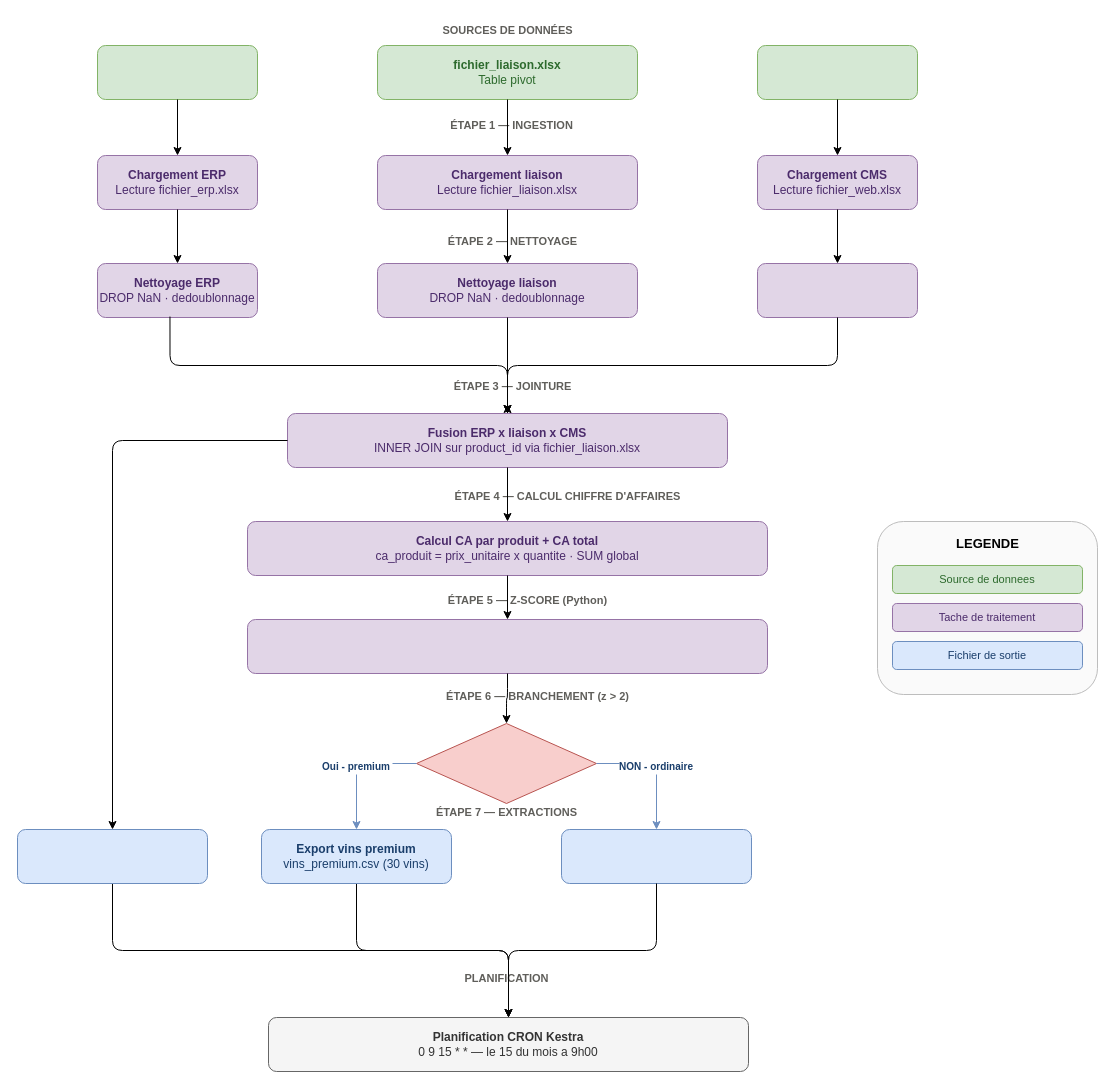
Image size: 1115x1089. Some labels were removed from this diagram. The shapes that lost their labels are listed below. From the top down, each one's centre as x and y in pixels, then its label:
(177,72): fichier_erp.xlsx Données ERP
(837,72): fichier_web.xlsx Données CMS
(837,290): Nettoyage CMS DROP NaN · dedoublonnage
(507,646): Calcul z-score sur les prix z = (prix - moyenne) / ecart-type
(506,763): z-score > 2 ?
(112,856): Export rapport CA rapport_ca.xslx
(656,856): Export vins ordinaires vins_ordinaires.csv (684 vins)
